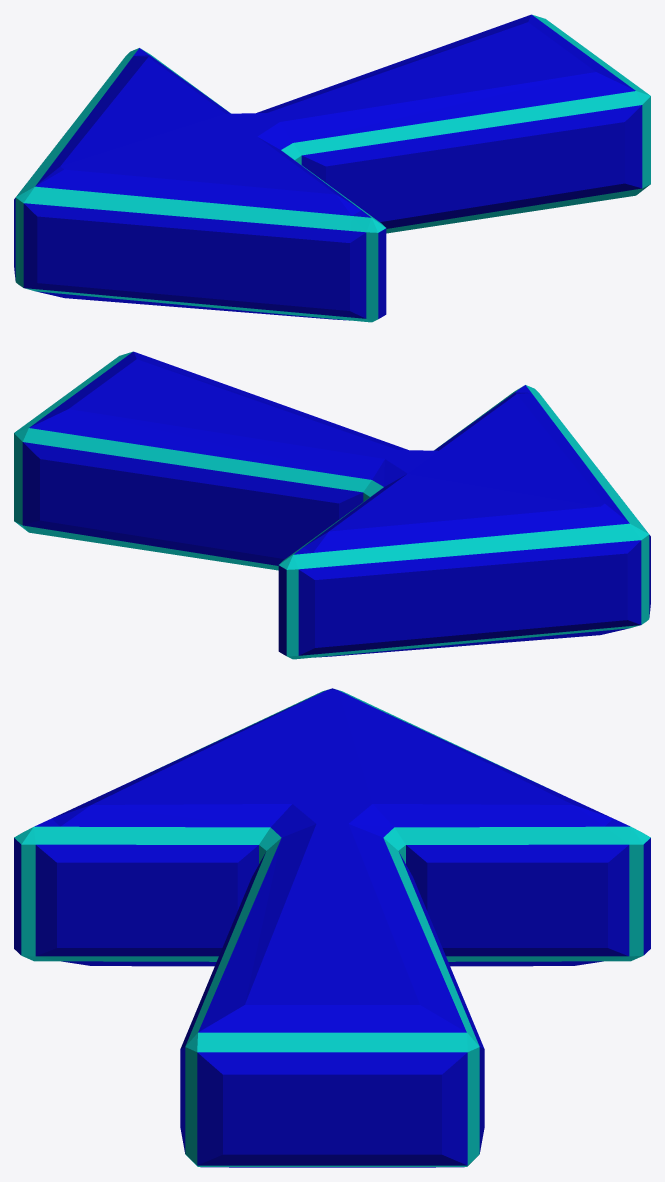
Rendered from Arrow.obj.
The picture shows the model from 3 angles, top to bottom: view 1: azimuth 30°, elevation 25°; view 2: azimuth 150°, elevation 25°; view 3: azimuth 270°, elevation 25°; orthographic projection. The views are drawn at different scales.
Parts seen in each view (by area): view 1: Cube; view 2: Cube; view 3: Cube.
Boxes of the visible parts, box(x1,y1,x2,y2) form: Cube: box(14, 14, 650, 322); Cube: box(14, 351, 650, 659); Cube: box(14, 688, 650, 1167).
Bounding box in the file's own units: 2.6 × 0.5423 × 1.89.
